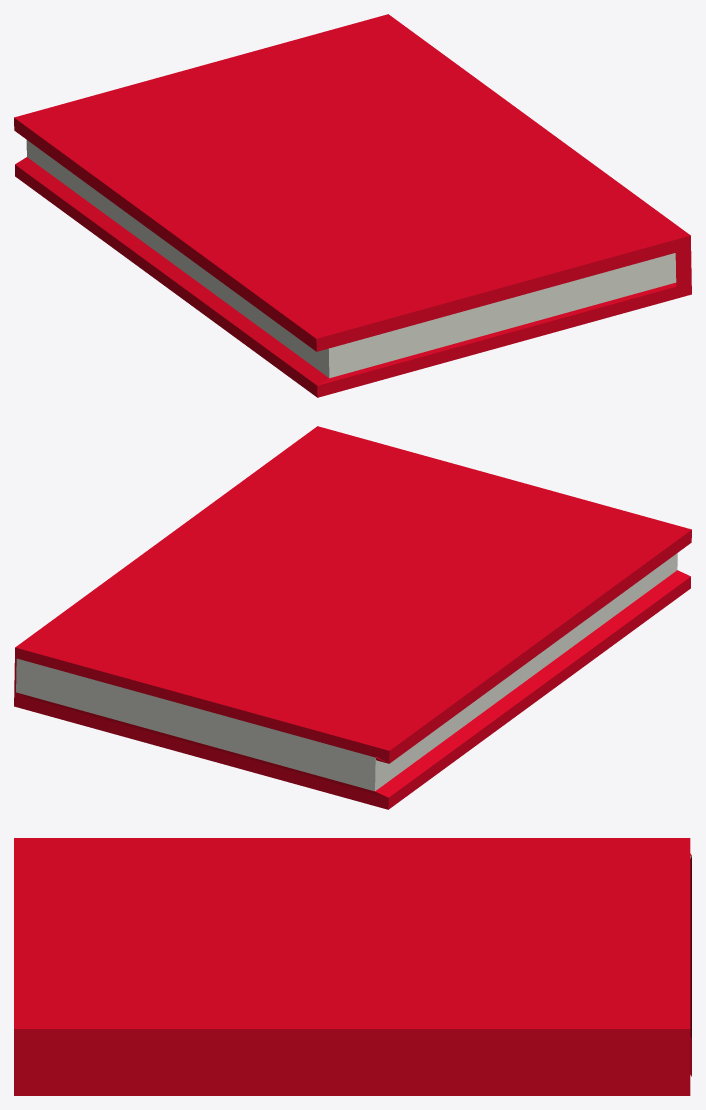
File: buku.glb
3 views of the same model, one above another, from view 1: azimuth 30°, elevation 25°; view 2: azimuth 150°, elevation 25°; view 3: azimuth 270°, elevation 25° (orthographic). The views are drawn at different scales.
Visible parts, largest first — view 1: Buku; view 2: Buku; view 3: Buku.
Part boxes in pixels (<box>): Buku: <box>14,14,691,397</box>; Buku: <box>14,426,691,809</box>; Buku: <box>14,838,691,1095</box>.
Size of the model in its own units: 1.99 by 0.3607 by 2.78.
